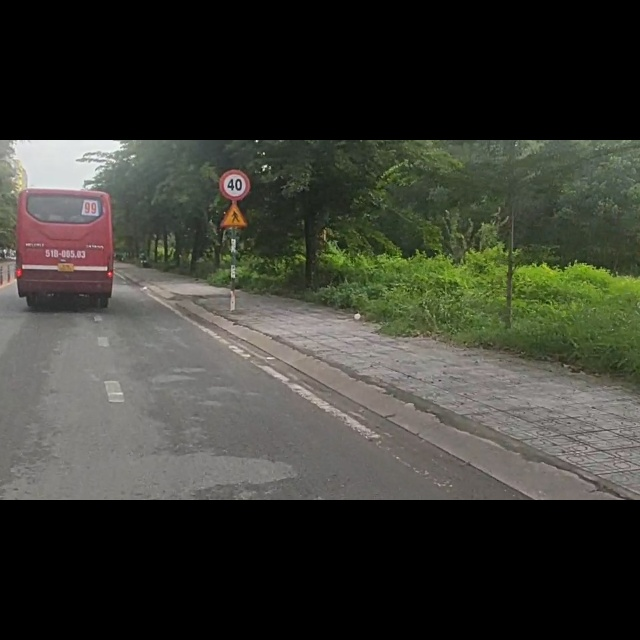bien_nguy_hiem: (219, 50, 251, 105), (220, 114, 249, 158)
